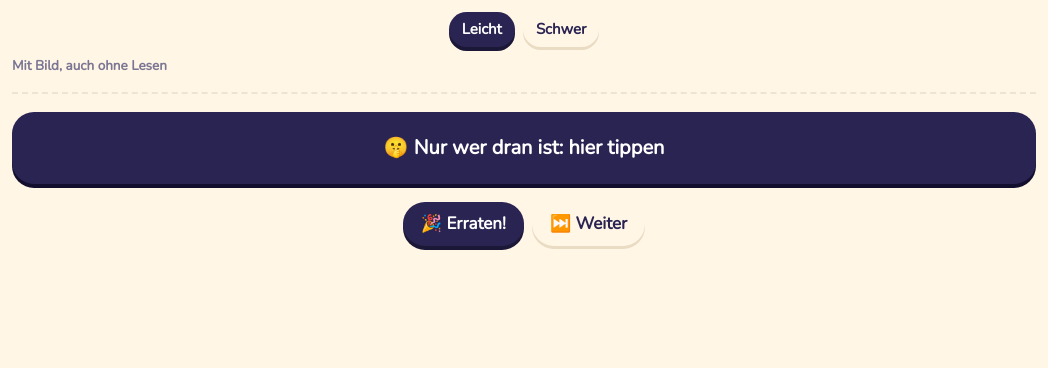
Test: Begriff-Stapel › Pantomime: verdeckt, aufdecken, Stufe wechseln
Expected: the text "Katze" is not shown
Click the button "🤫 Nur wer dran ist: hier tippen".
click(524, 148)  # box x1=12 y1=112 x2=1036 y2=184
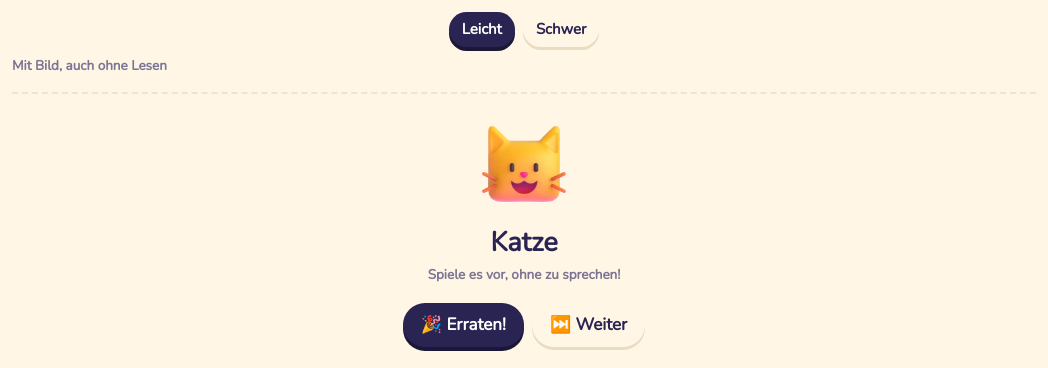
Result: the text "Katze" is shown at x1=490 y1=227 x2=558 y2=258
Result: the text "Spiele es vor, ohne zu sprechen!" is shown at x1=428 y1=266 x2=620 y2=285
Click the button "🎉 Erraten!".
click(463, 325)  # box x1=403 y1=303 x2=524 y2=347
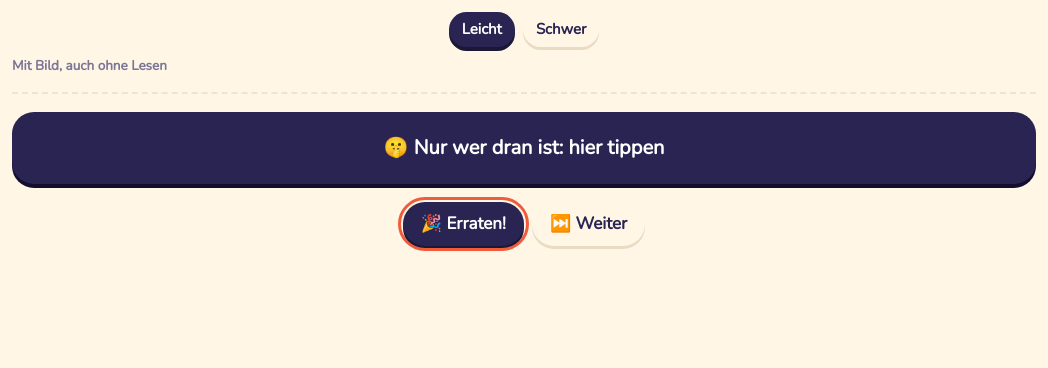
Result: the text "Katze" is gone
Click the button "Schwer".
click(561, 30)  # box x1=523 y1=12 x2=599 y2=47
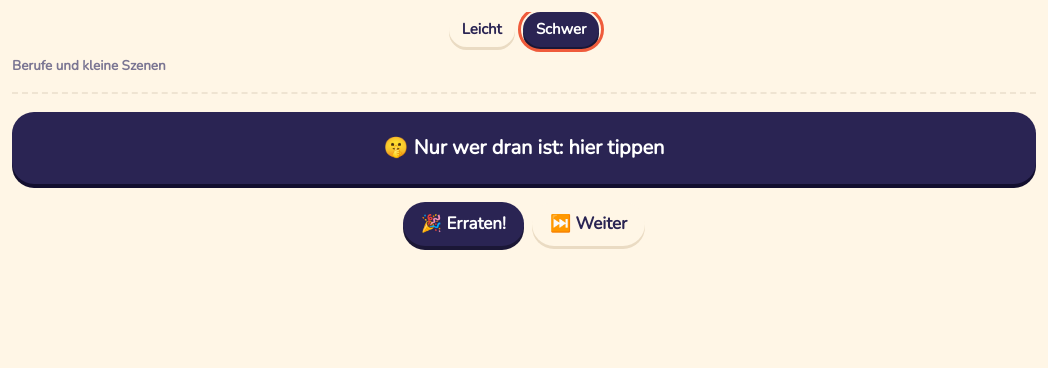
Result: the button "Schwer" is pressed at x1=523 y1=12 x2=599 y2=47
Click the button "🤫 Nur wer dran ist: hier tippen".
click(524, 148)  # box x1=12 y1=112 x2=1036 y2=184
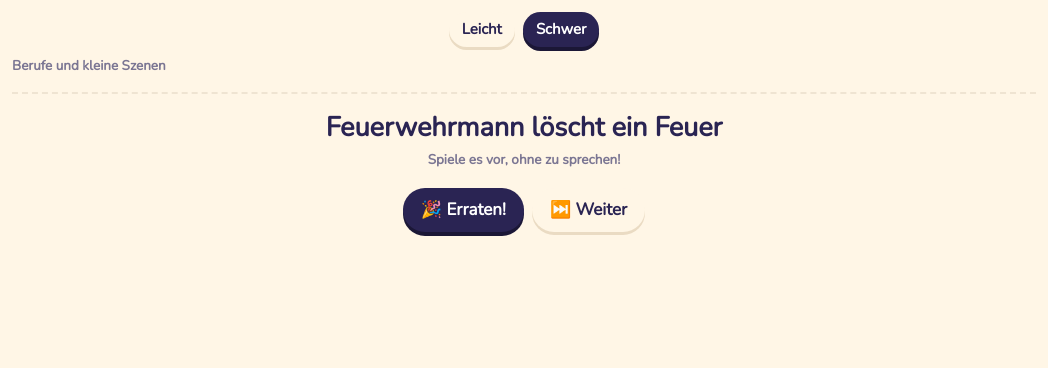
Result: the text "Feuerwehrmann löscht ein Feuer" is shown at x1=326 y1=112 x2=722 y2=143
